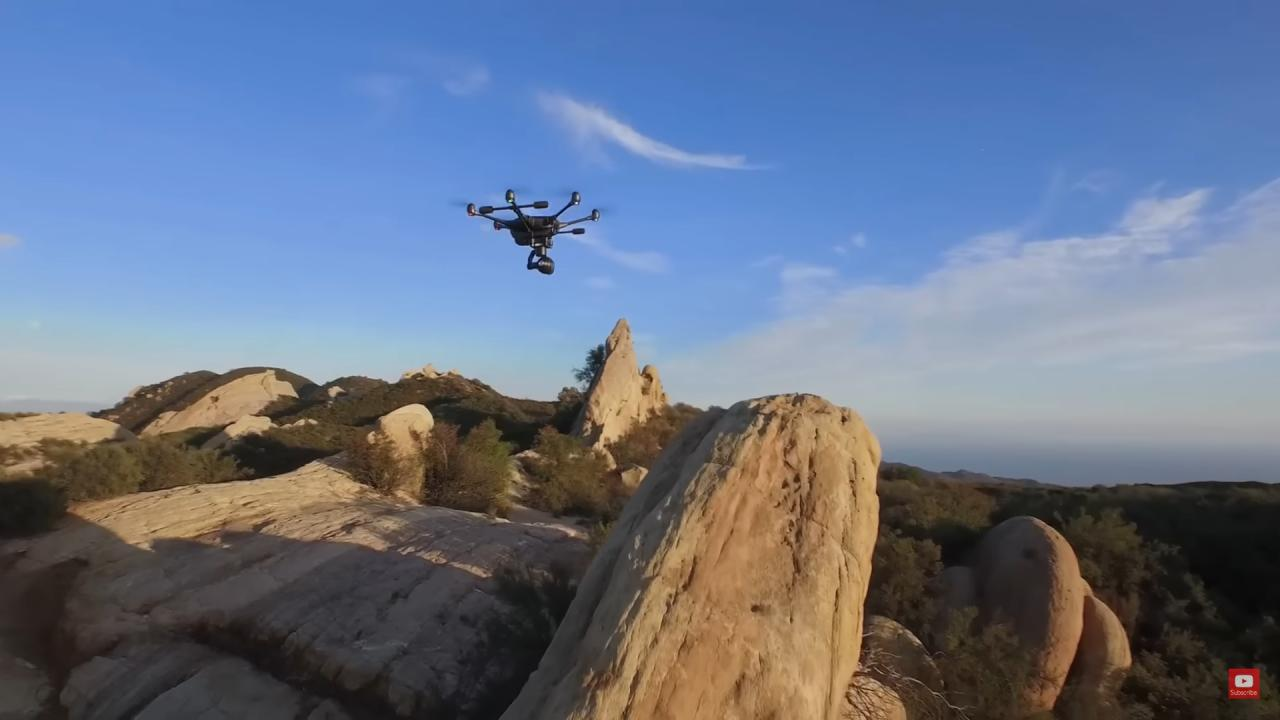Drone: (442, 167, 625, 284)
